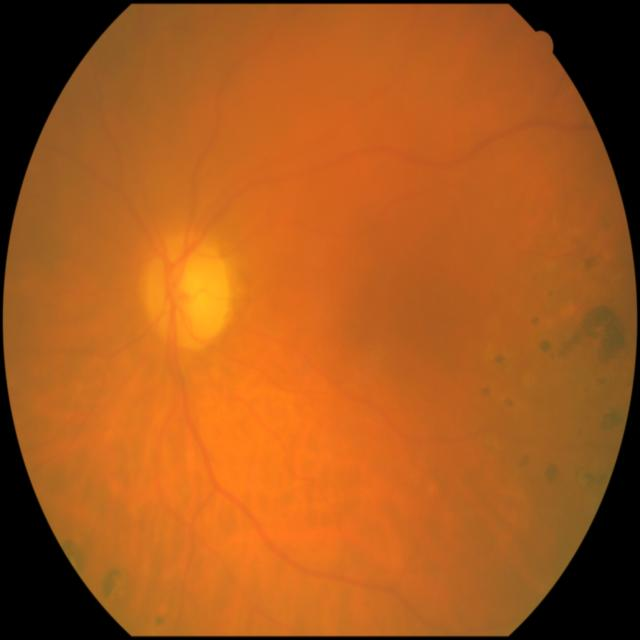OD: (147, 236, 235, 346)
